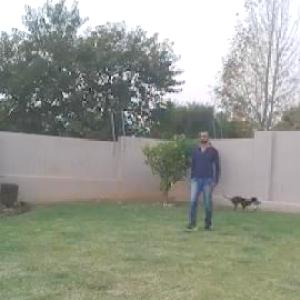follow: (189, 127, 219, 230)
